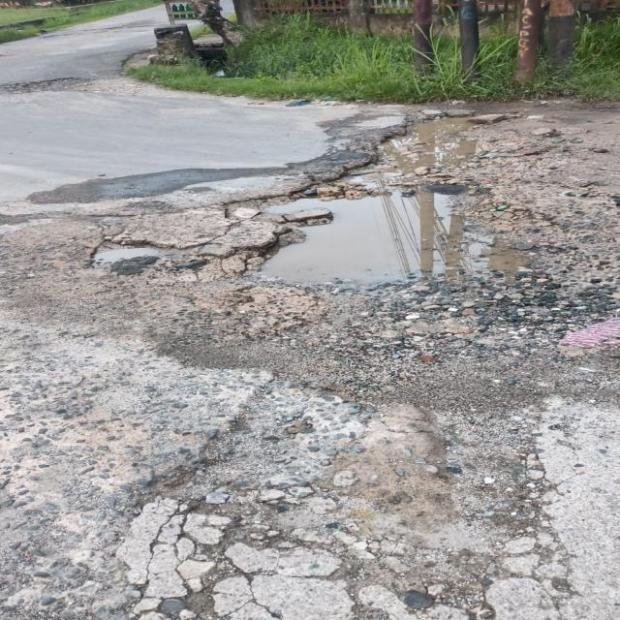lubang: (185, 384, 548, 619), (259, 114, 494, 288), (93, 208, 231, 272), (3, 78, 143, 98), (465, 233, 525, 272), (118, 52, 156, 72)
